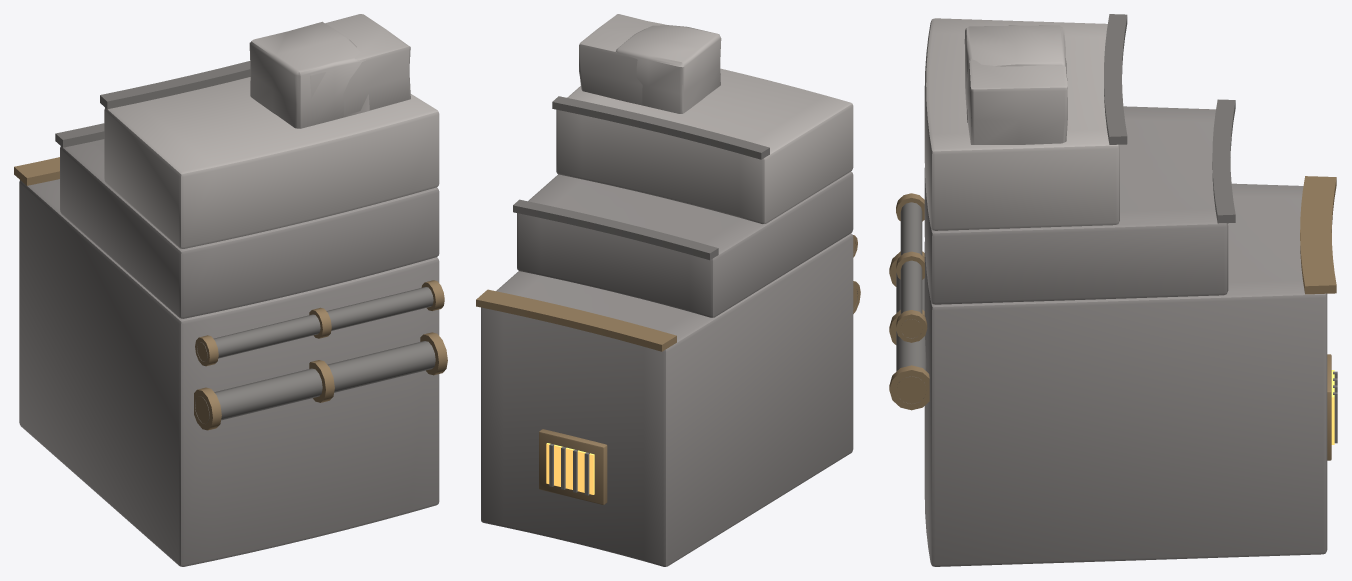
Rendered from SM_Area2_Wall_Hatch.glb.
The picture shows the model from 3 angles, left to right: view 1: azimuth 30°, elevation 25°; view 2: azimuth 150°, elevation 25°; view 3: azimuth 270°, elevation 25°; orthographic projection. The views are drawn at different scales.
Parts seen in each view (by area): view 1: SM_Area2_Wall_Hatch; view 2: SM_Area2_Wall_Hatch; view 3: SM_Area2_Wall_Hatch.
Boxes of the visible parts, bbox=[...] form: SM_Area2_Wall_Hatch: bbox=[14, 14, 447, 566]; SM_Area2_Wall_Hatch: bbox=[476, 14, 860, 566]; SM_Area2_Wall_Hatch: bbox=[889, 14, 1337, 566].
Size of the model in its own units: 3.51 by 5.83 by 4.96.
